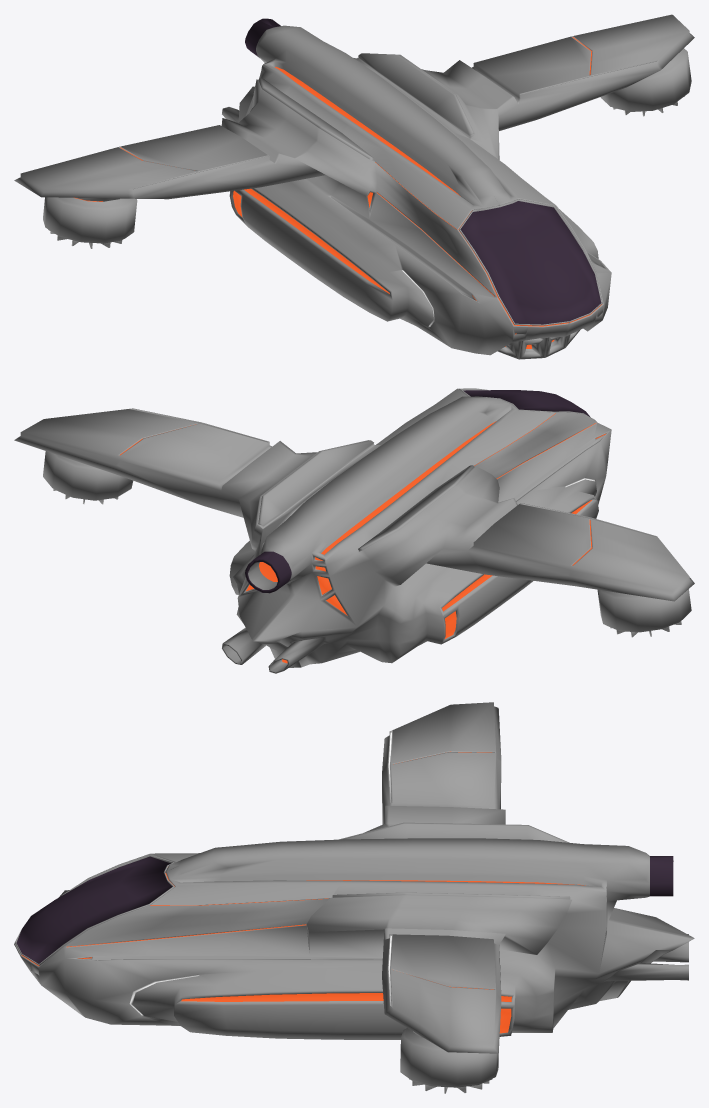
Rendered from spacecraft.glb.
3 renders of one model, top to bottom at view 1: azimuth 30°, elevation 25°; view 2: azimuth 150°, elevation 25°; view 3: azimuth 270°, elevation 25°, orthographic. The views are drawn at different scales.
Parts seen in each view (by area): view 1: Scifi Scoutcraft; view 2: Scifi Scoutcraft; view 3: Scifi Scoutcraft.
Part boxes in pixels (box(x1,y1,x2,y2)): Scifi Scoutcraft: box(14, 14, 694, 359); Scifi Scoutcraft: box(14, 388, 694, 673); Scifi Scoutcraft: box(14, 702, 694, 1093).
Bounding box in the file's own units: 18.74 × 4.07 × 15.59.
